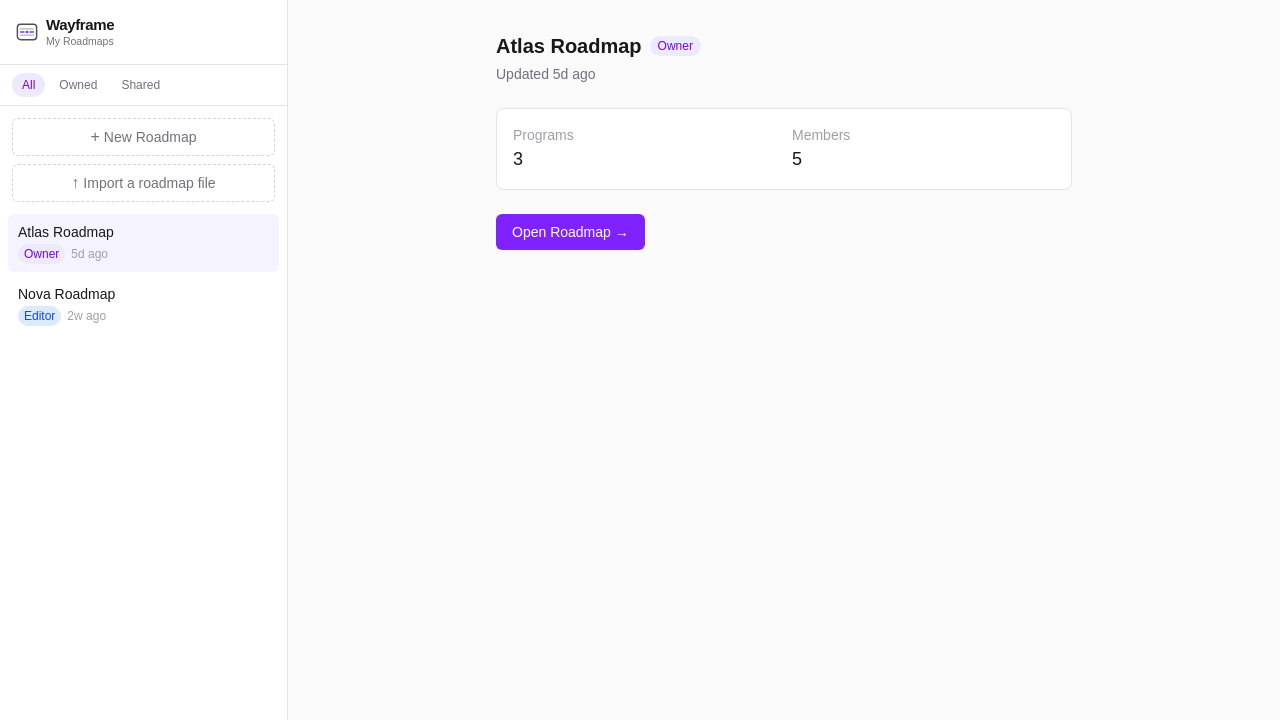
Test: MyRoadmapsLanding (wayframe#123) › surfaces an error instead of creating a Roadmap when POST /api/roadmaps fails
Expected: the text "Nova Roadmap" is shown, [18,284,115,304]
Click the button "+ New Roadmap". click: x=144, y=137
box: [12,118,275,156]
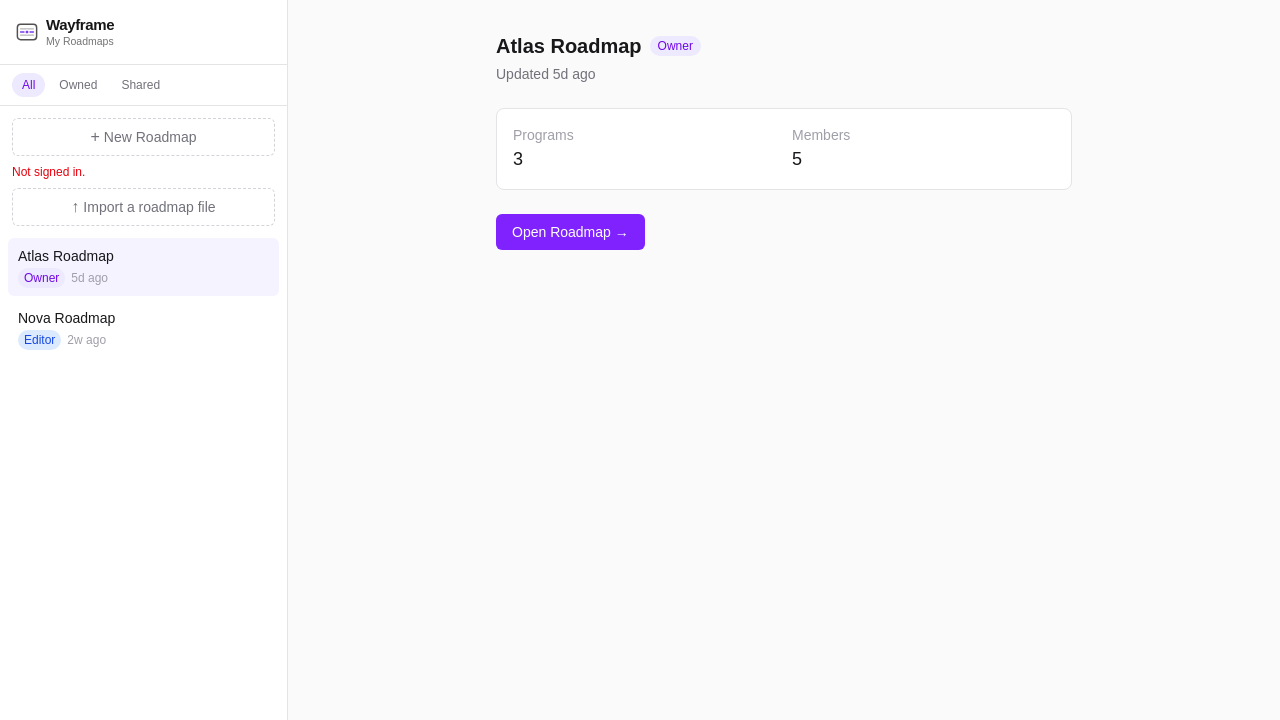
Expected: the text "Not signed in." is shown, [12,165,85,179]
